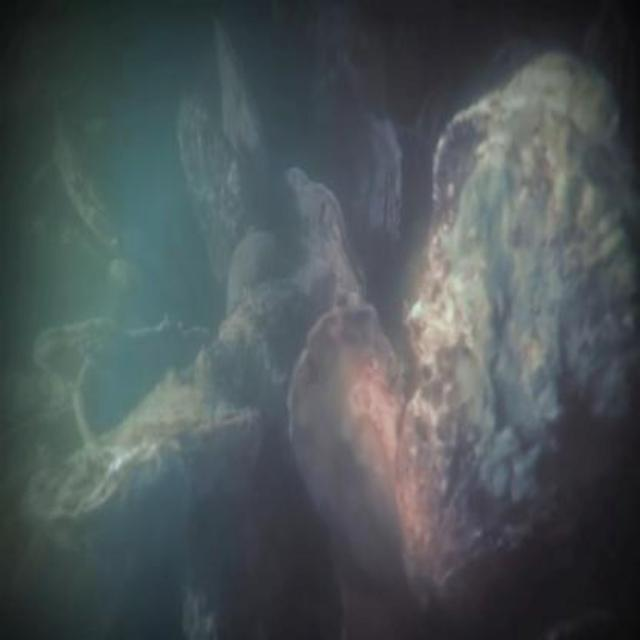Oyster-Closed: (399, 136, 640, 602), (48, 383, 267, 563), (288, 302, 416, 604), (176, 87, 262, 298), (211, 11, 276, 224), (279, 172, 366, 304), (30, 320, 202, 381)
